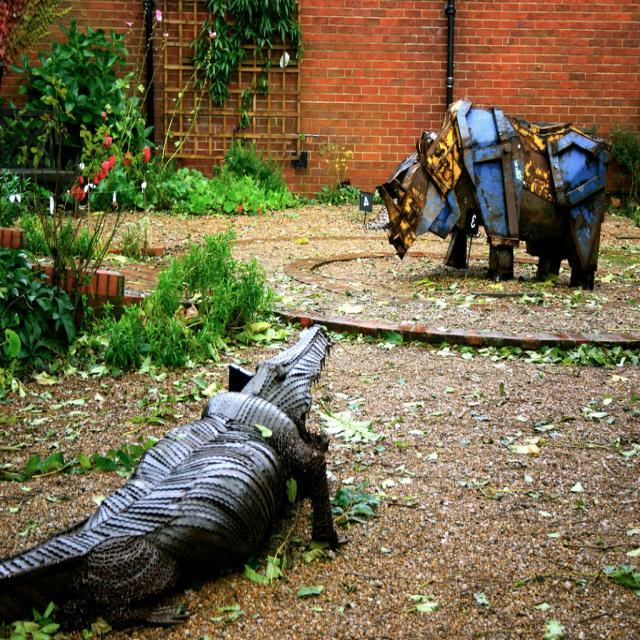crocodile: (0, 319, 347, 631)
